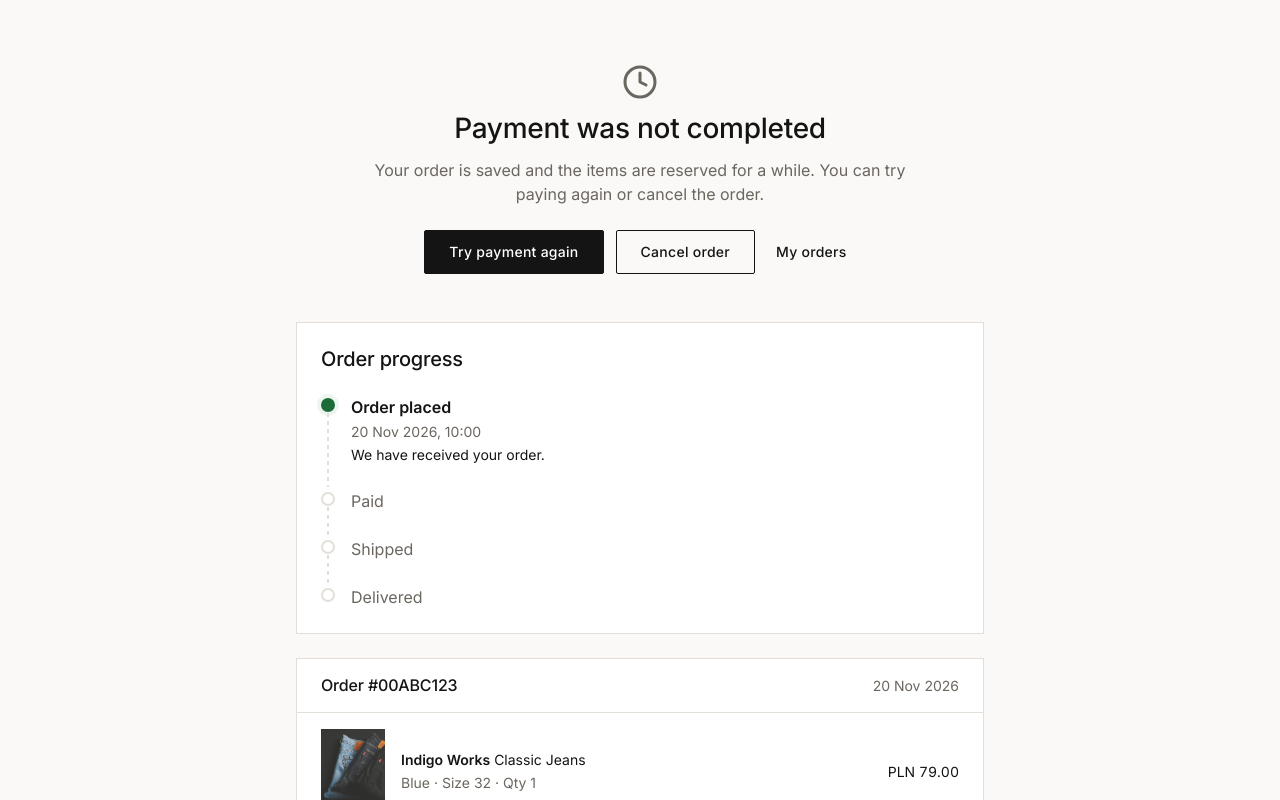
CheckoutResult › shows an error when the payment cannot be restarted
Click the button "Try payment again". click: (514, 252)
box: [424, 230, 604, 274]
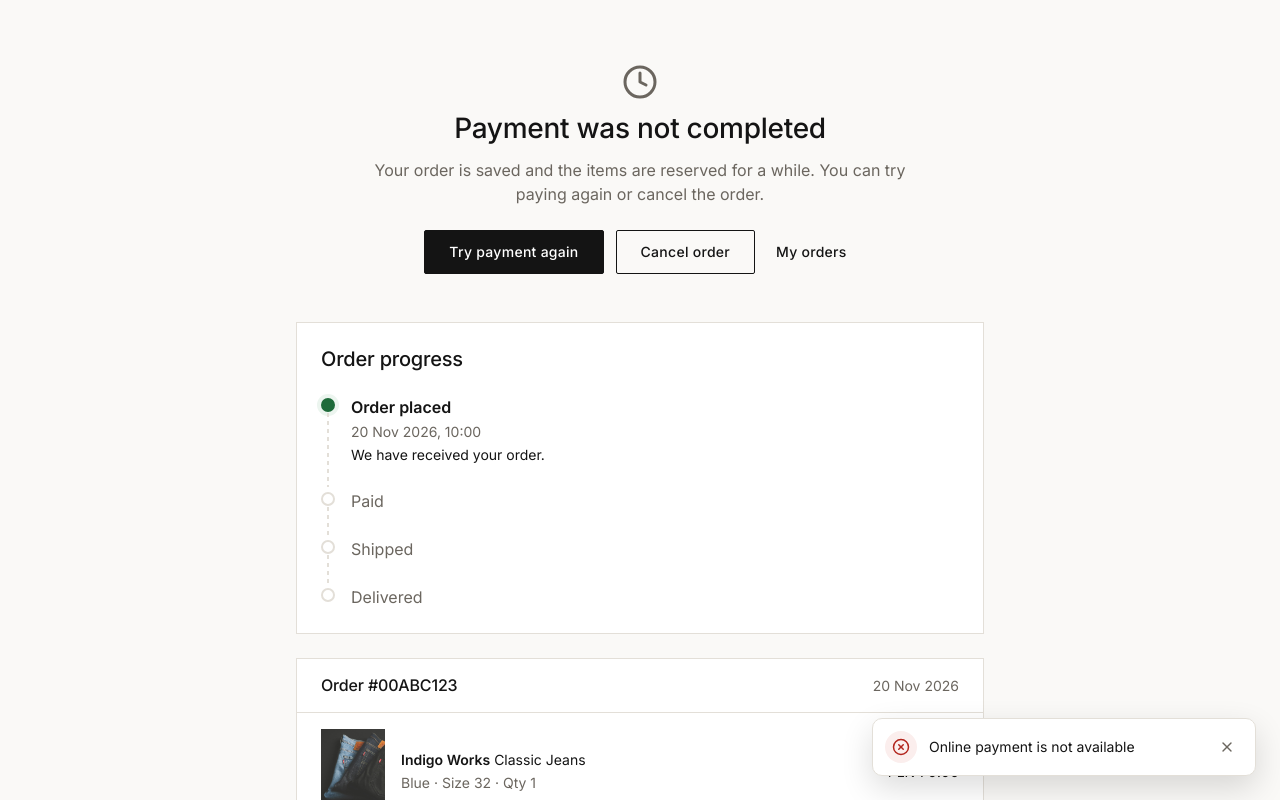
Result: the message "Online payment is not available" is shown at [872, 718, 1256, 776]
